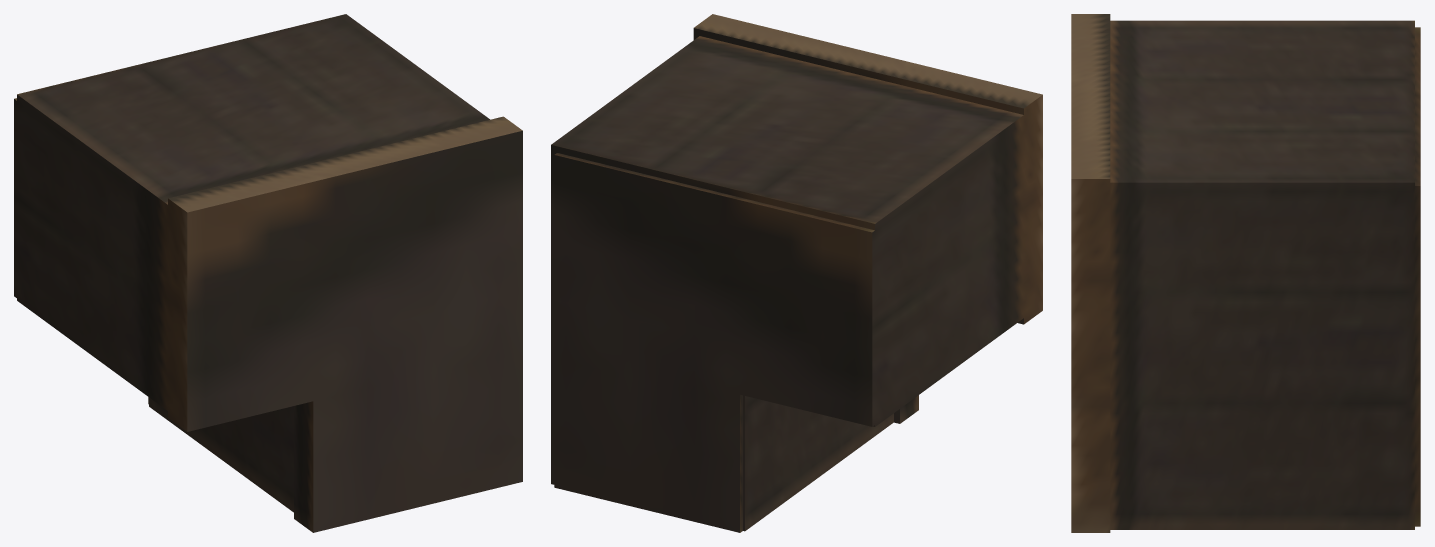
File: pz_counter_wooden_corner.obj
3 renders of one model, left to right at view 1: azimuth 30°, elevation 25°; view 2: azimuth 150°, elevation 25°; view 3: azimuth 270°, elevation 25°, orthographic. The views are drawn at different scales.
Bounding box in the file's own units: 1 × 1 × 0.895.
1 material, 1 textured.
